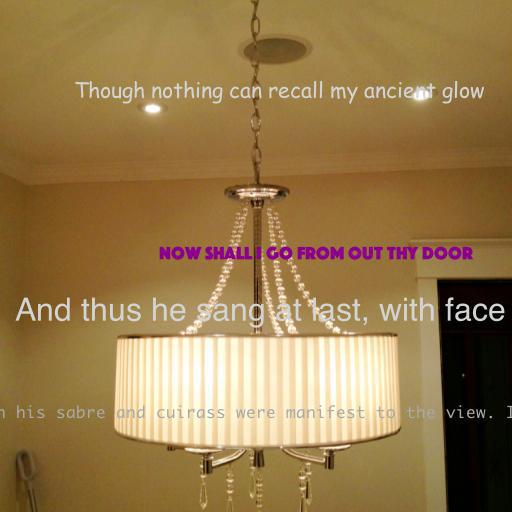Comic Sans MS: (73, 80, 485, 104)
Monaco: (0, 405, 512, 422)
Phosphate: (159, 246, 473, 260)
SignPainter: (14, 297, 506, 328)
